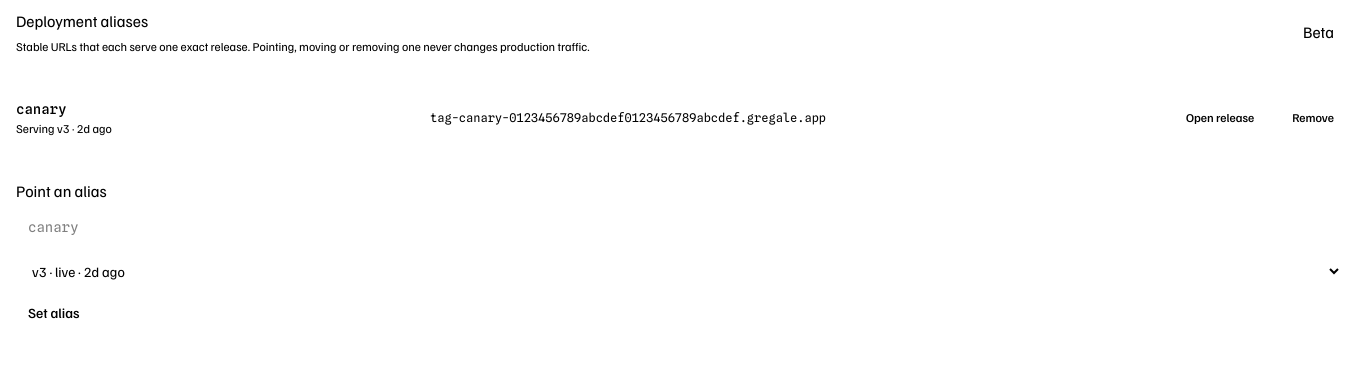
Test case: DeploymentAliasesPanel › refuses a name apid would refuse, before sending it
Type "Canary" into the field named "Alias name" at (104, 227), box [16,209,192,245]
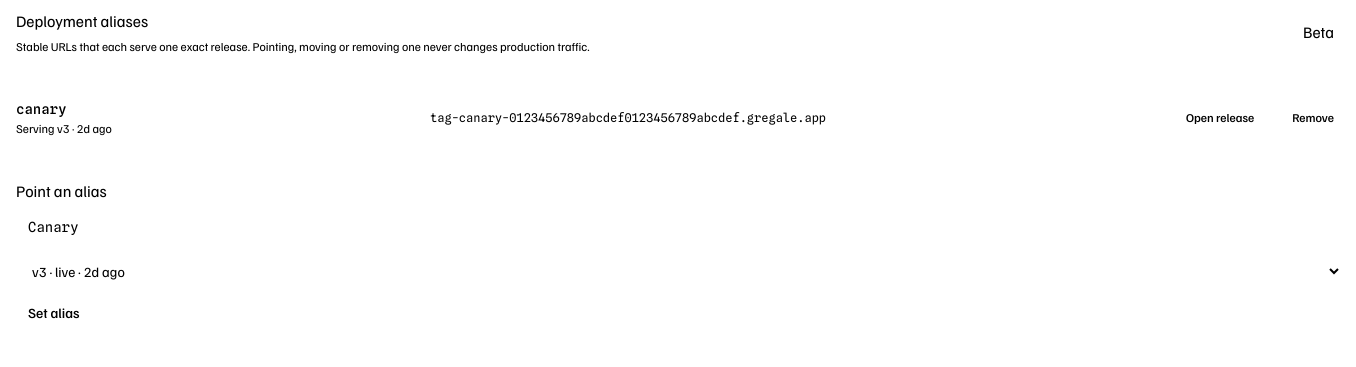
Click the button "Set alias" at (54, 313), box [16,297,92,329]
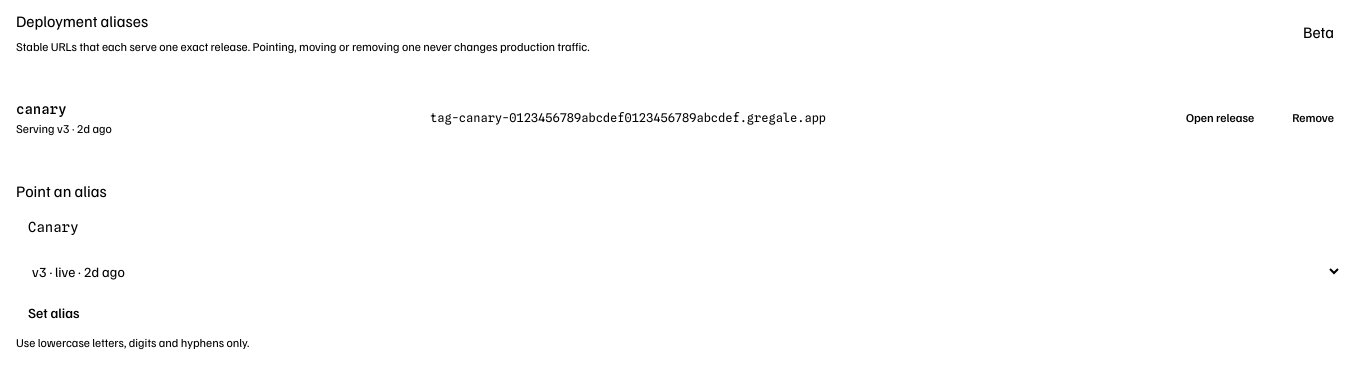
Check: the message shows "lowercase", box [16,335,250,350]
